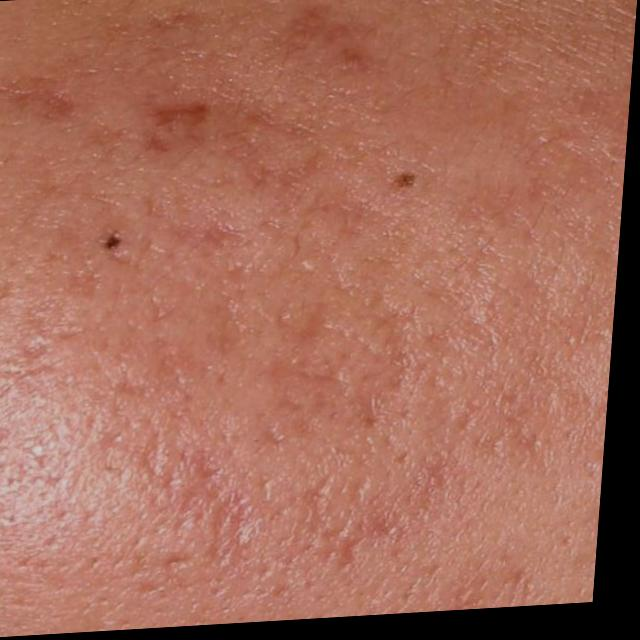dark spot: (96, 228, 137, 260)
